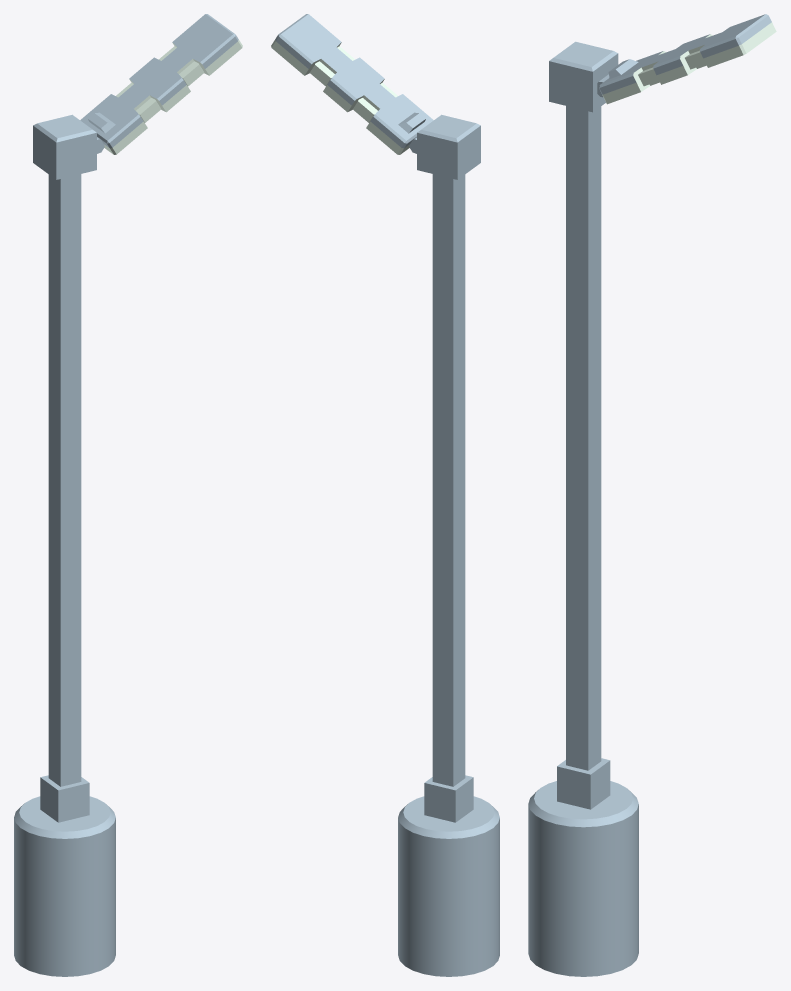
File: streetlight_19.fbx
3 views of the same model, side by side, from view 1: azimuth 30°, elevation 25°; view 2: azimuth 150°, elevation 25°; view 3: azimuth 330°, elevation 25° (orthographic). The views are drawn at different scales.
Parts seen in each view (by area): view 1: pCube21, streetlight_19, polySurface41, polySurface40; view 2: pCube21, streetlight_19, polySurface41, polySurface40; view 3: pCube21, streetlight_19, polySurface41.
Boxes of the visible parts, box(x1,y1,x2,y2) form: pCube21: box(33, 114, 96, 822); streetlight_19: box(14, 796, 115, 976); polySurface41: box(80, 14, 242, 154); polySurface40: box(116, 46, 204, 122); pCube21: box(417, 114, 480, 822); streetlight_19: box(398, 796, 499, 976); polySurface41: box(271, 14, 433, 154); polySurface40: box(309, 46, 397, 122); pCube21: box(549, 41, 618, 809); streetlight_19: box(528, 781, 638, 976); polySurface41: box(599, 14, 776, 104).
Bounding box in the file's own units: 2.72 × 11.14 × 1.15.
